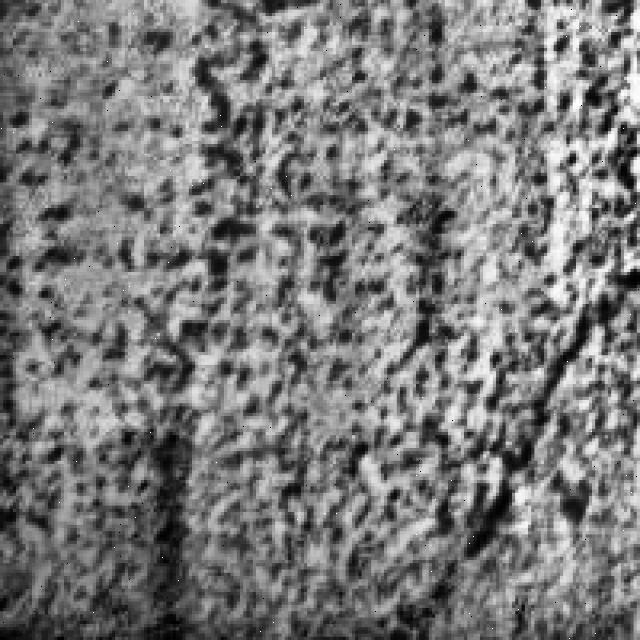Rolled_in_Scale: (19, 38, 618, 628)
